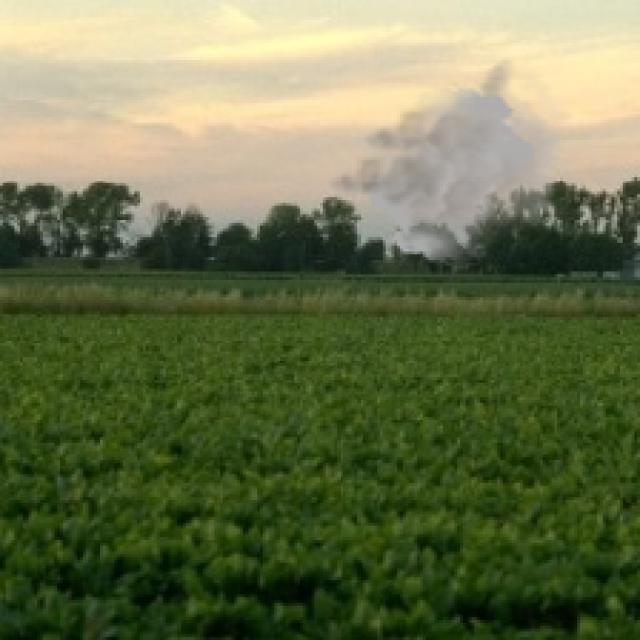smoke: (320, 57, 569, 266)
